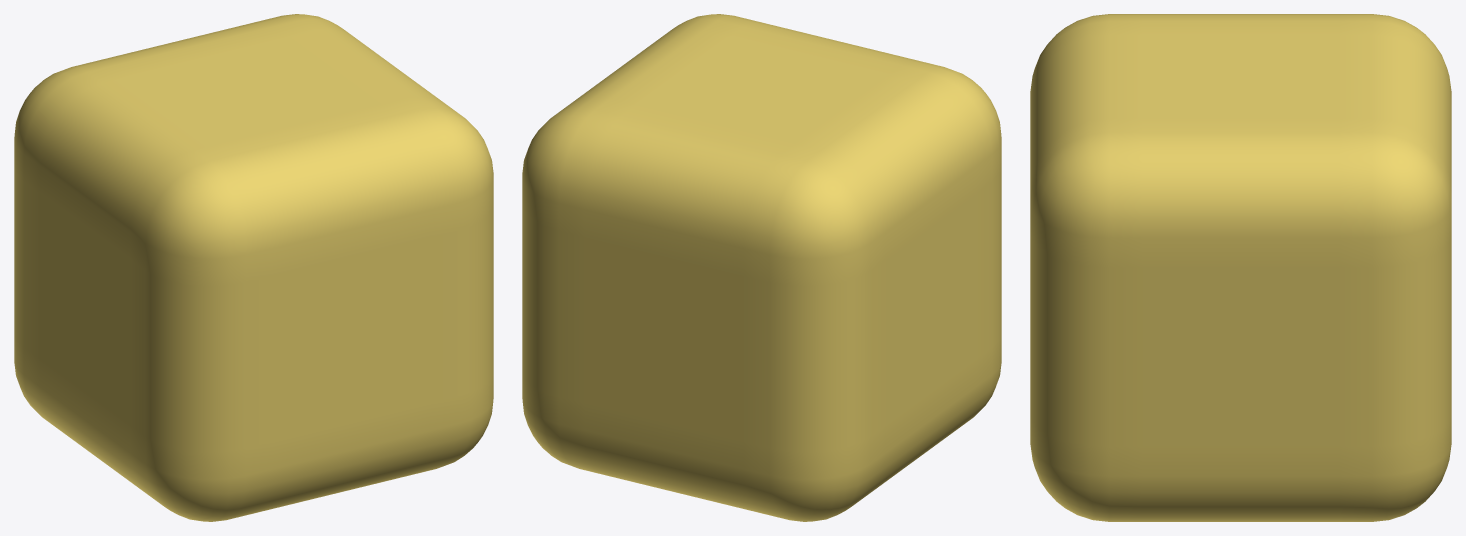
3 renders of one model, left to right at view 1: azimuth 30°, elevation 25°; view 2: azimuth 150°, elevation 25°; view 3: azimuth 270°, elevation 25°, orthographic. The views are drawn at different scales.
Visible parts, largest first — view 1: Cube.001; view 2: Cube.001; view 3: Cube.001.
Part boxes in pixels (bbox=[...]): Cube.001: bbox=[14, 14, 493, 521]; Cube.001: bbox=[522, 14, 1001, 521]; Cube.001: bbox=[1030, 14, 1451, 521].
Size of the model in its own units: 321 by 321 by 321.
